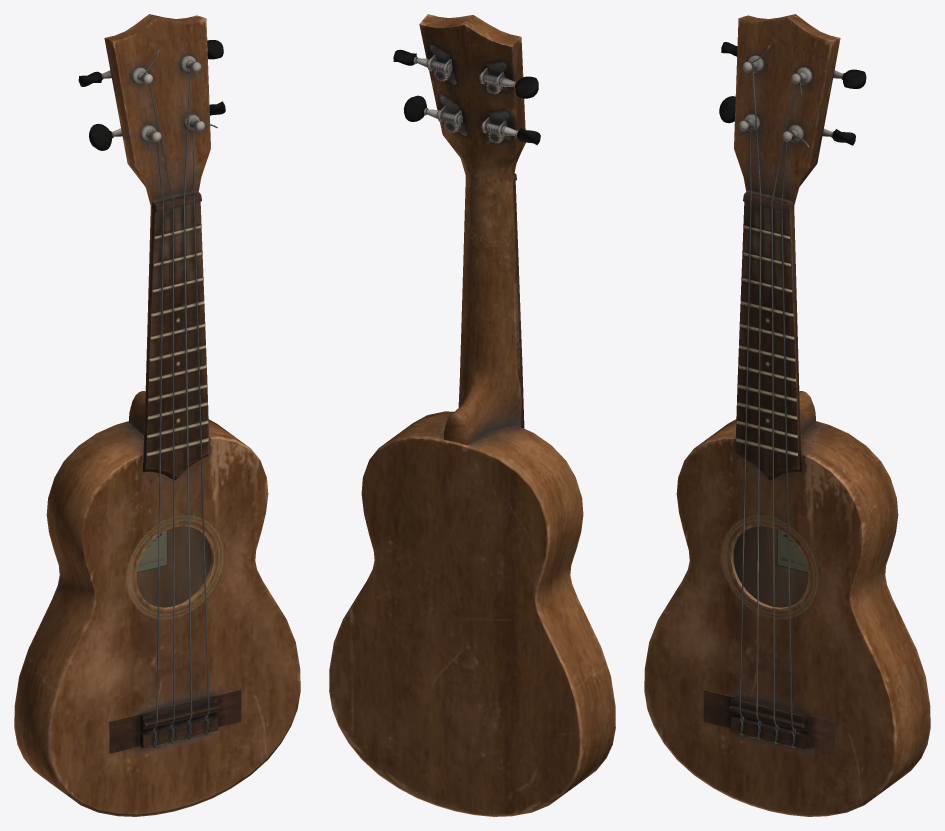
File: Ukulele_01.glb
3 renders of one model, left to right at view 1: azimuth 30°, elevation 25°; view 2: azimuth 150°, elevation 25°; view 3: azimuth 330°, elevation 25°, orthographic.
Visible parts, largest first — view 1: Ukulele_01; view 2: Ukulele_01; view 3: Ukulele_01.
Part boxes in pixels (x1,y1,x2,y2): Ukulele_01: (14,14,300,816); Ukulele_01: (329,14,615,816); Ukulele_01: (644,14,930,816).
Bounding box in the file's own units: 0.1779 × 0.527 × 0.0508.
1 material, 1 textured.
